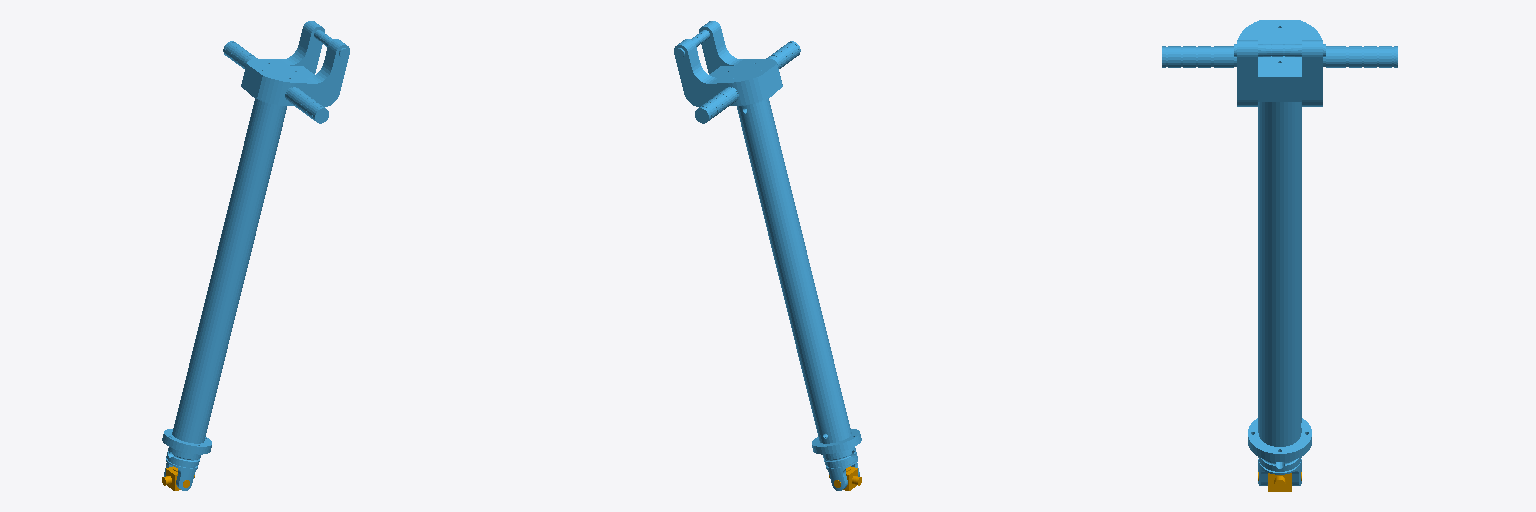
robot.urdf — test_inverted_final_3dof:
<?xml version="1.0" ?>
<robot name="test_inverted_final_3dof">
  <link name="base_link">
    <inertial>
      <origin xyz="-0.007800468073552532 -2.1528612226262567e-13 -3.6316462537211436e-07" rpy="0 0 0"/>
      <mass value="0.0017857987414545656"/>
      <inertia ixx="100.0" ixy="0.0" ixz="0.0" iyy="100.0" iyz="0.0" izz="100.0"/>
    </inertial>
    <visual>
      <origin xyz="0.004092 -0.1 0.561081" rpy="0 0 0"/>
      <geometry>
        <mesh filename="meshes/l_ankle_1.stl" scale="0.001 0.001 0.001"/>
      </geometry>
      <material name="silver"/>
    </visual>
    <collision>
      <origin xyz="0.004092 -0.1 0.561081" rpy="0 0 0"/>
      <geometry>
        <mesh filename="meshes/l_ankle_1.stl" scale="0.001 0.001 0.001"/>
      </geometry>
    </collision>
  </link>

  <joint name="L_Ankle_Pitch" type="continuous">
    <origin xyz="-0.0078 0.0078 0.0" rpy="0 0 0"/>
    <parent link="base_link"/>    
    <child link="l_shank_1"/>
    <axis xyz="0.0 1.0 0.0"/>
  </joint>

  <link name="l_shank_1">
    <inertial>
      <origin xyz="0.047753454927990976 -0.007802351197388646 0.16221228128872173" rpy="0 0 0"/>
      <mass value="0.21284837581671107"/>
      <inertia ixx="0.001435" iyy="0.001566" izz="0.000187" ixy="0.0" iyz="0.0" ixz="-0.000442"/>
    </inertial>
    <visual>
      <origin xyz="0.011892 -0.1078 0.561081" rpy="0 0 0"/>
      <geometry>
        <mesh filename="meshes/l_shank_1.stl" scale="0.001 0.001 0.001"/>
      </geometry>
      <material name="silver"/>
    </visual>
    <collision>
      <origin xyz="0.011892 -0.1078 0.561081" rpy="0 0 0"/>
      <geometry>
        <mesh filename="meshes/l_shank_1.stl" scale="0.001 0.001 0.001"/>
      </geometry>
    </collision>
  </link>
<!-- 
  <joint name="L_Knee_Pitch" type="continuous">
    <origin xyz="0.067965 0.041199 0.246294" rpy="0 0 0"/>
    <parent link="l_shank_1"/>
    <child link="l_thigh_1"/>
    <axis xyz="0.0 1.0 0.0"/>
  </joint>

  <link name="l_thigh_1">
    <inertial>
      <origin xyz="-0.03847951076134135 -0.054672411677168464 0.15911804863560305" rpy="0 0 0"/>
      <mass value="2.4192276463978106"/>
      <inertia ixx="0.01249" iyy="0.010396" izz="0.006309" ixy="-0.000154" iyz="0.000601" ixz="0.002029"/>
    </inertial>
    <visual>
      <origin xyz="-0.056073 -0.148999 0.314787" rpy="0 0 0"/>
      <geometry>
        <mesh filename="meshes/l_thigh_1.stl" scale="0.001 0.001 0.001"/>
      </geometry>
      <material name="silver"/>
    </visual>
    <collision>
      <origin xyz="-0.056073 -0.148999 0.314787" rpy="0 0 0"/>
      <geometry>
        <mesh filename="meshes/l_thigh_1.stl" scale="0.001 0.001 0.001"/>
      </geometry>
    </collision>
  </link>

  <joint name="L_Hip_Pitch" type="continuous">
    <origin xyz="-0.053932 -0.068 0.213287" rpy="0 0 0"/>
    <parent link="l_thigh_1"/>
    <child link="l_hip_pitch_1"/>
    <axis xyz="0.0 1.0 0.0"/>
  </joint>

  <link name="l_hip_pitch_1">
    <inertial>
      <origin xyz="-2.8733765611429693e-07 -0.029750671422763636 0.022749999529343243" rpy="0 0 0"/>
      <mass value="0.09382009482644237"/>
      <inertia ixx="0.000168" iyy="0.000137" izz="0.000133" ixy="0.0" iyz="5e-06" ixz="0.0"/>
    </inertial>
    <visual>
      <origin xyz="-0.002141 -0.080999 0.1015" rpy="0 0 0"/>
      <geometry>
        <mesh filename="meshes/l_hip_pitch_1.stl" scale="0.001 0.001 0.001"/>
      </geometry>
      <material name="silver"/>
    </visual>
    <collision>
      <origin xyz="-0.002141 -0.080999 0.1015" rpy="0 0 0"/>
      <geometry>
        <mesh filename="meshes/l_hip_pitch_1.stl" scale="0.001 0.001 0.001"/>
      </geometry>
    </collision>
  </link> -->
 


</robot>

--- What the picture shows (computed from the rendered views, not written in the file) ---
3 views of the same robot in one strip: view 1: azimuth 30°, elevation 25°; view 2: azimuth 150°, elevation 25°; view 3: azimuth 270°, elevation 25° (orthographic).
Model test_inverted_final_3dof with 2 links and 1 joints (1 continuous), rooted at base_link, posed every joint at zero.
Visible links, largest first — view 1: l_shank_1; view 2: l_shank_1; view 3: l_shank_1.
Boxes of the visible links, box(x1,y1,x2,y2) form: l_shank_1: box(162, 21, 349, 490); l_shank_1: box(674, 21, 861, 490); l_shank_1: box(1162, 20, 1397, 485).
Bounding box of the posed robot: 0.1178 × 0.11 × 0.2772 m (x, y, z).
Meshes: 2 distinct files referenced, 2 mesh visuals loaded (2 binary STL).
